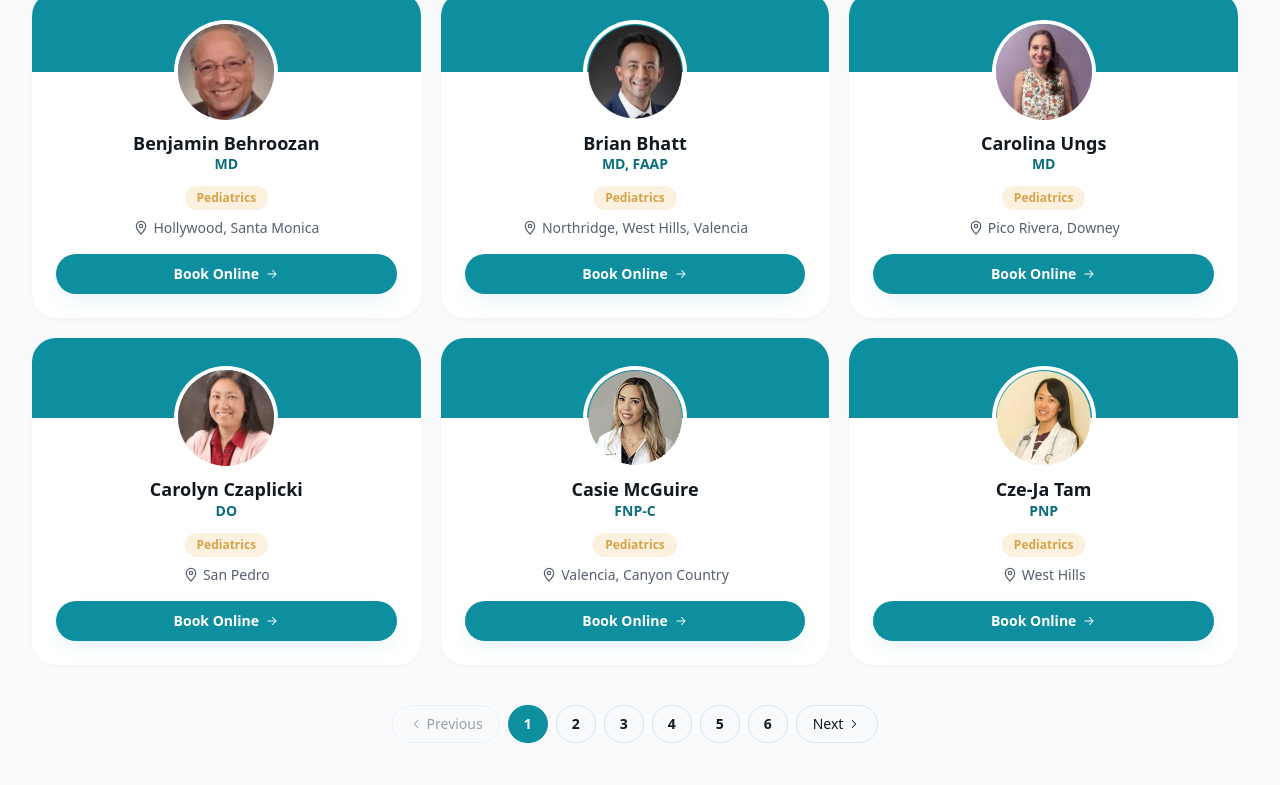
DoctorsPage › navigates to the second page of results
This screenshot has width=1280, height=785.
(page scrolled)
Expected: the text "Faiza Iram" is not shown
What coordinates should you click on to do the following:
click the button named "Go to page 2"
I would click on:
 (576, 724)
Its box is top-left (556, 705), bottom-right (596, 743).
(page scrolled)
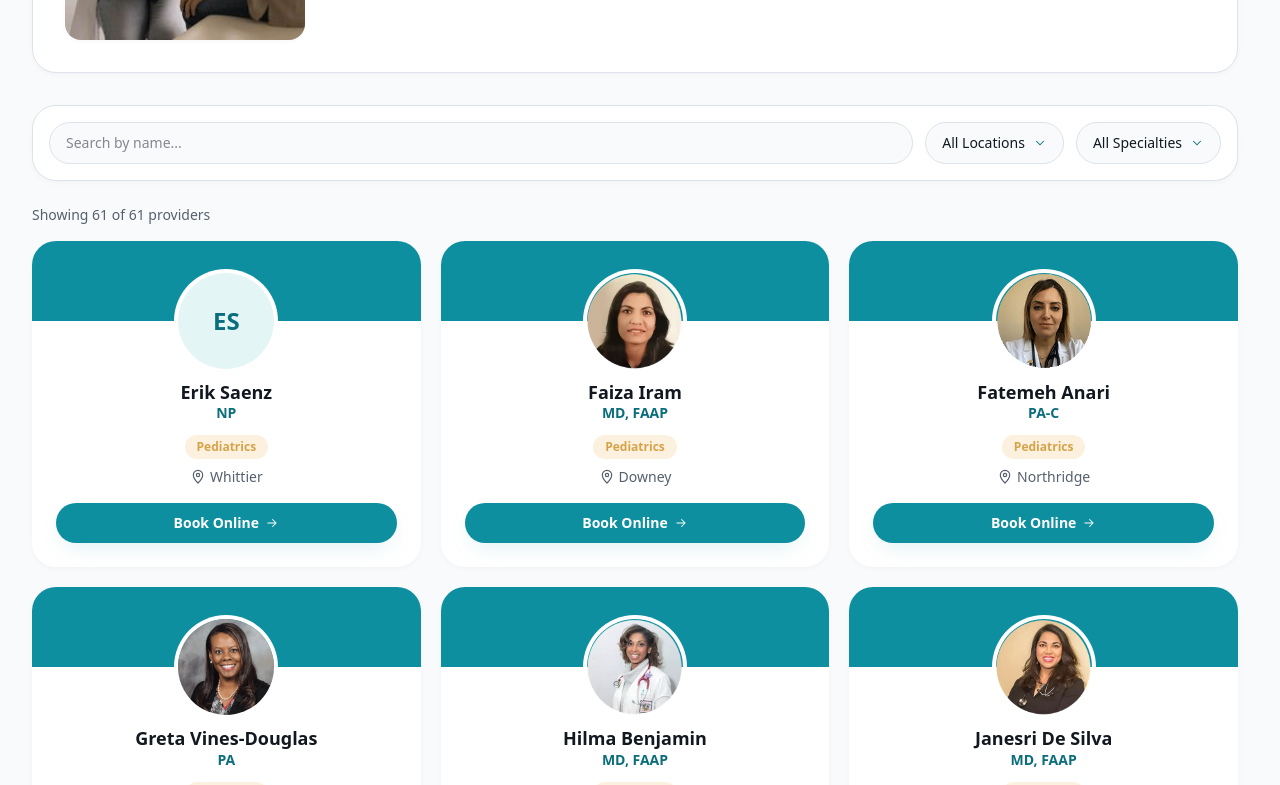
Result: the link "Faiza Iram" is shown at top-left (588, 380), bottom-right (682, 404)
